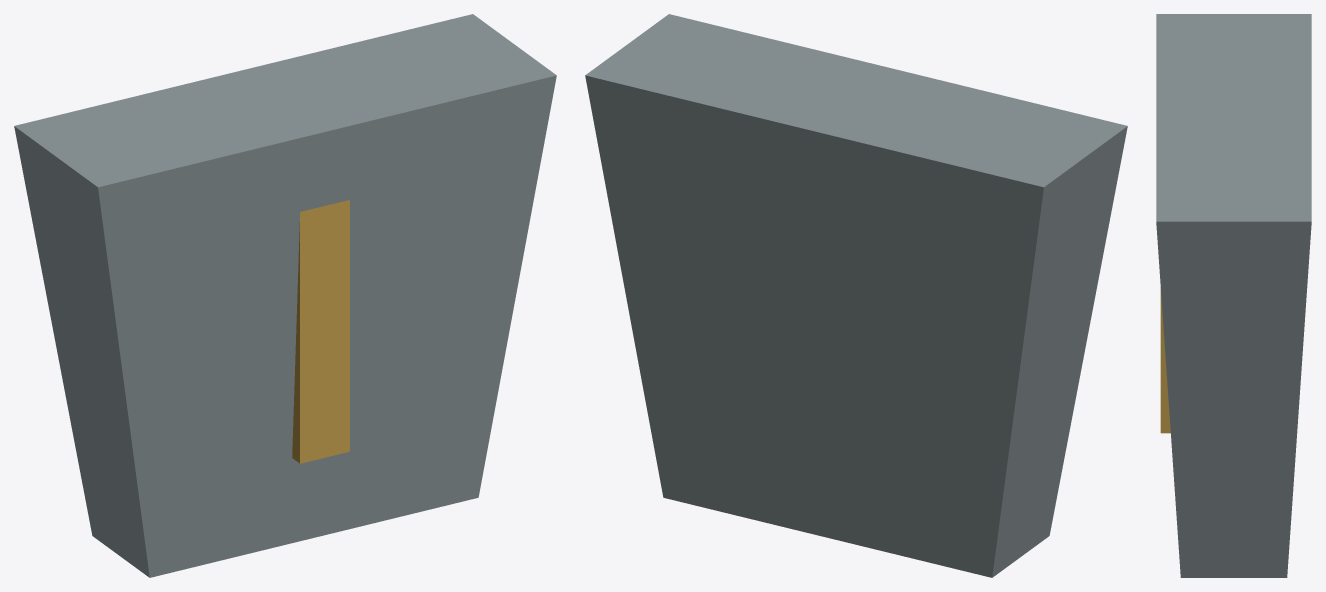
The model's file is wk_shell_chest_cuirass_v01.glb.
3 renders of one model, left to right at view 1: azimuth 30°, elevation 25°; view 2: azimuth 150°, elevation 25°; view 3: azimuth 270°, elevation 25°, orthographic. The views are drawn at different scales.
Visible parts, largest first — view 1: GEO_Cuirass, GEO_CuirassRidge; view 2: GEO_Cuirass; view 3: GEO_Cuirass, GEO_CuirassRidge.
Boxes of the visible parts, x1,y1,x2,y2 form: GEO_Cuirass: (14, 14, 556, 577); GEO_CuirassRidge: (292, 200, 349, 463); GEO_Cuirass: (585, 14, 1127, 577); GEO_Cuirass: (1156, 14, 1311, 577); GEO_CuirassRidge: (1160, 288, 1170, 433).
Size of the model in its own units: 0.6 by 0.52 by 0.19.
